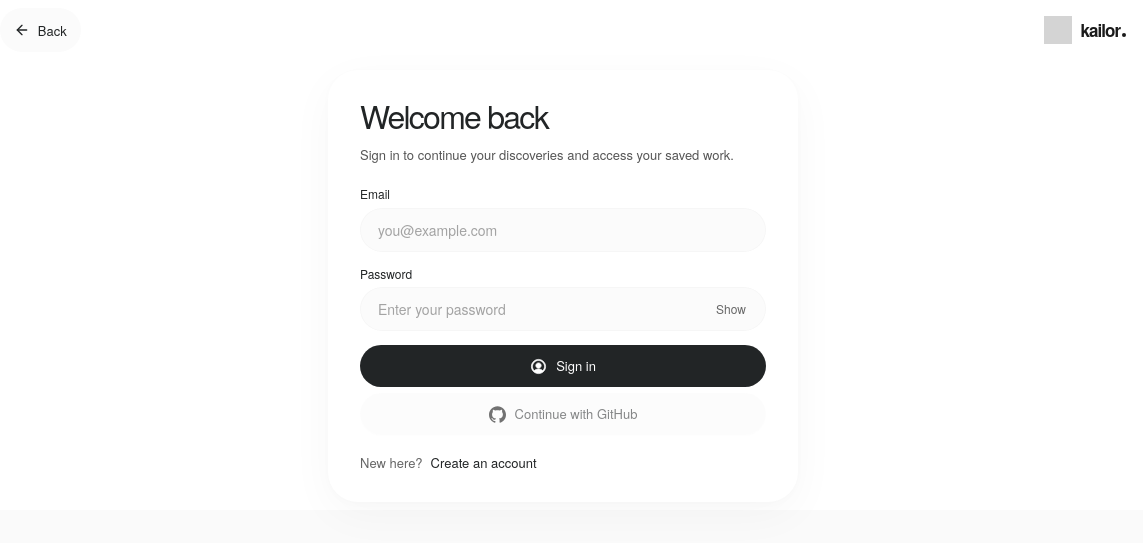
Test: prevents duplicate sign-in requests and preserves only safe return destinations
This screenshot has width=1143, height=543.
In the field labelled "Email": (563, 230) [360, 208, 766, 252], type "test@example.com"
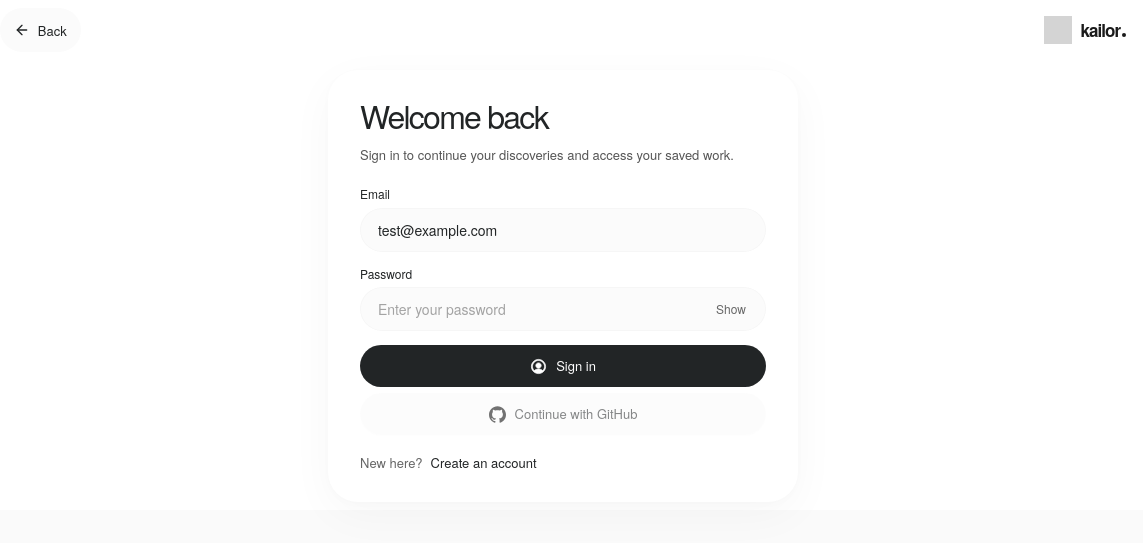
In the password field labelled "Password": (563, 309) [360, 287, 766, 331], type "test-only-password"
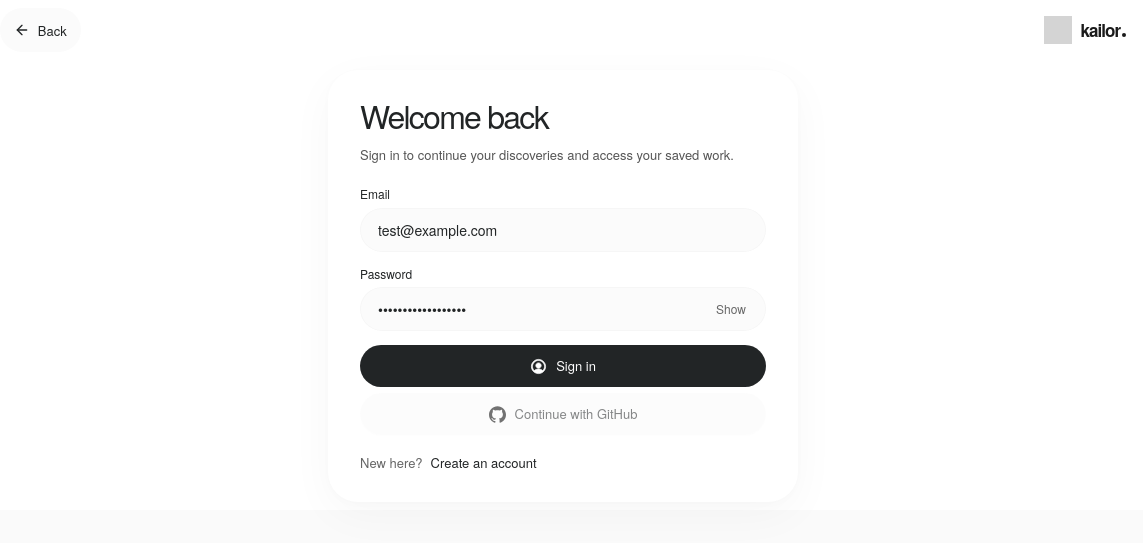
Click the button with aria-label "Show password": (731, 309) [702, 291, 760, 327]
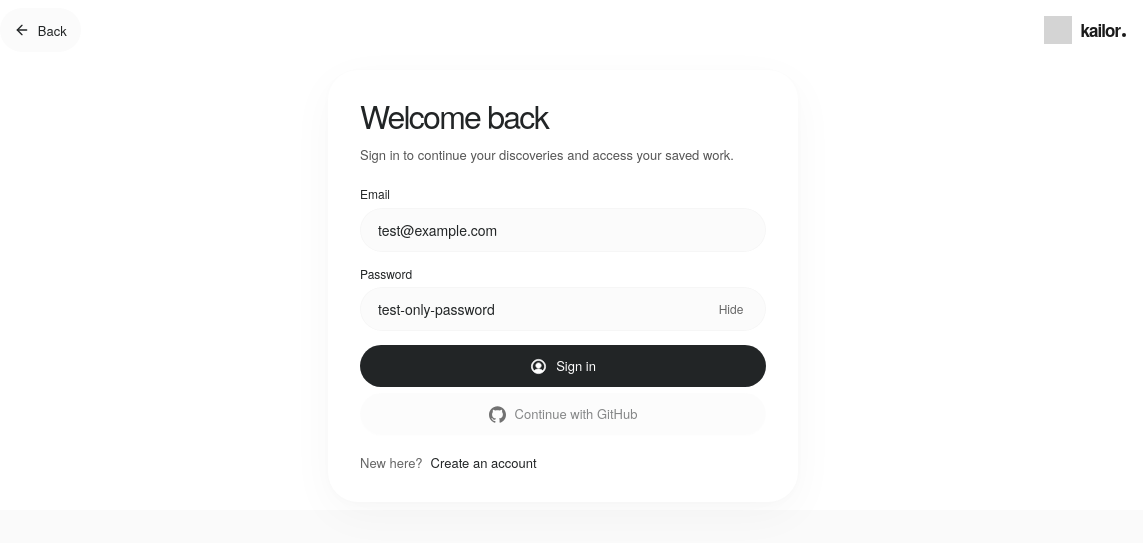
Check: the field labelled "Password" shows its text, box [360, 287, 766, 331]
Submit the form, box [360, 186, 766, 387]
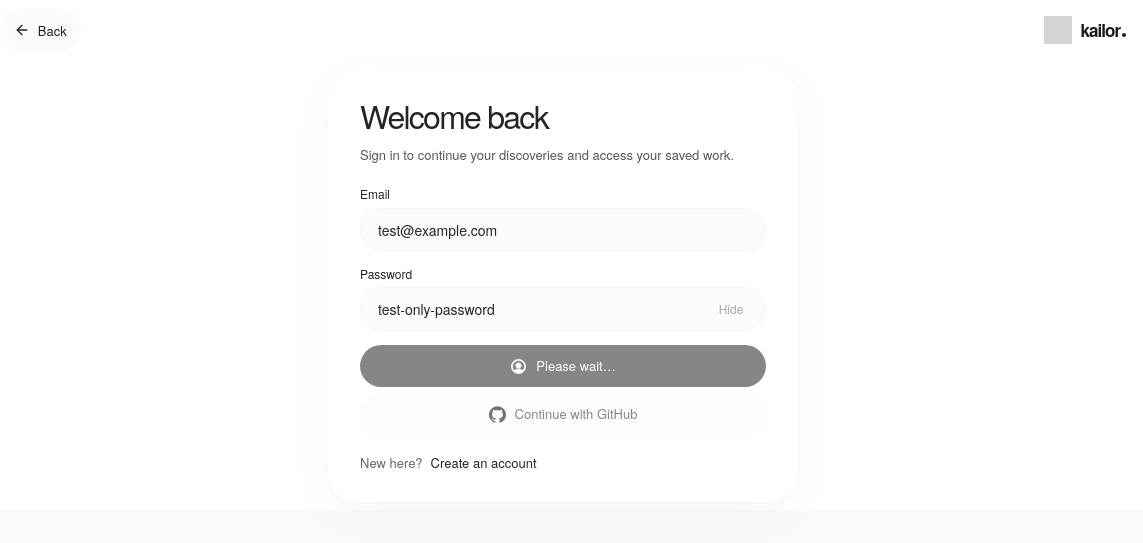
Submit the form, box [360, 186, 766, 387]
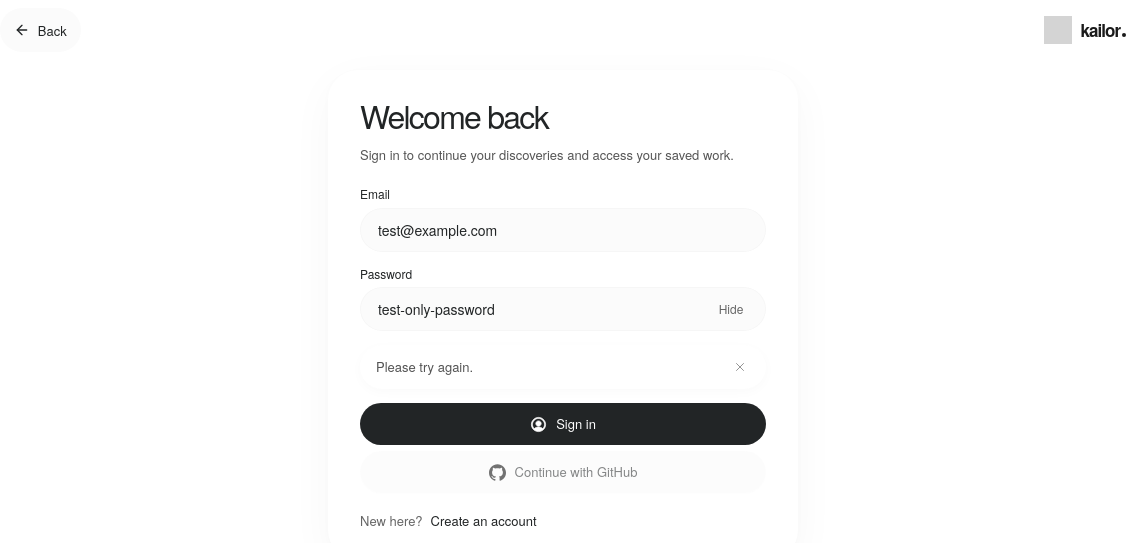
Check: the text "Please try again." is shown, box [376, 357, 473, 376]
